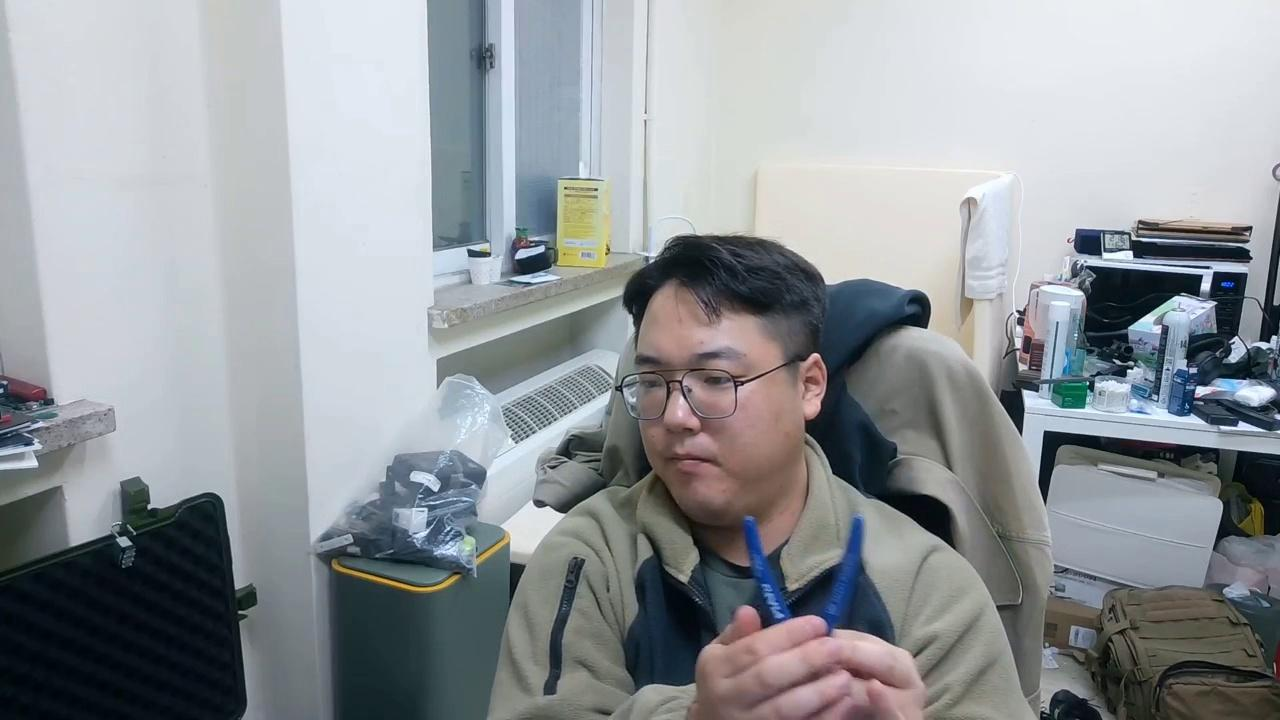blue_pliers: (739, 512, 868, 640)
